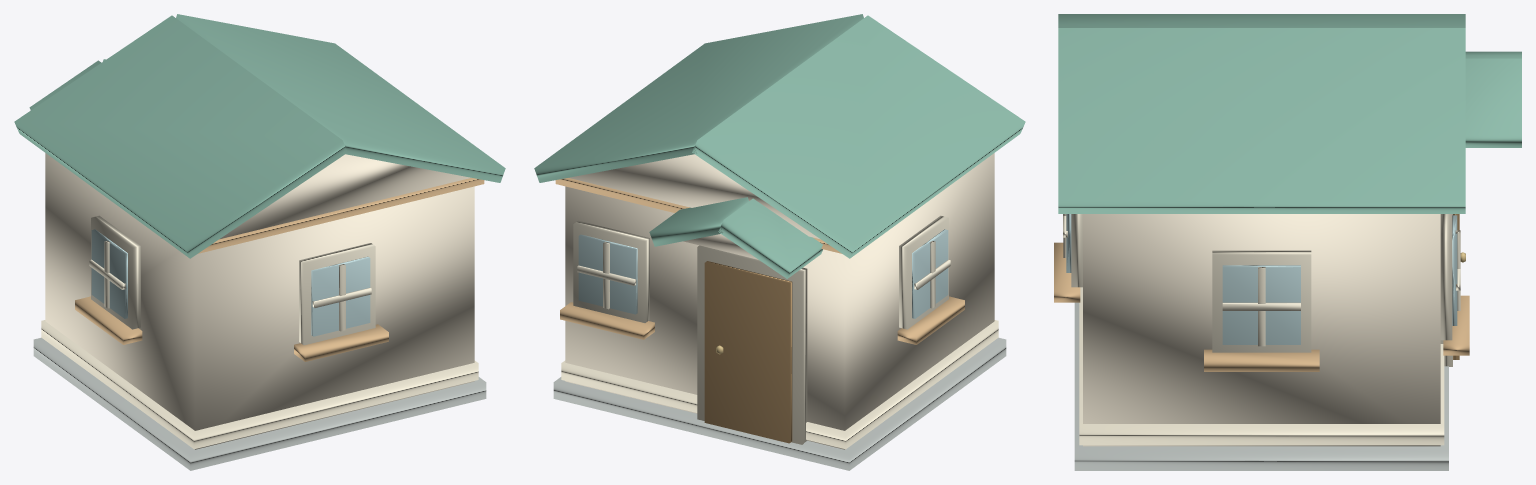
The model's file is cottage_0_low.glb.
3 renders of one model, left to right at view 1: azimuth 30°, elevation 25°; view 2: azimuth 150°, elevation 25°; view 3: azimuth 270°, elevation 25°, orthographic. The views are drawn at different scales.
Bounding box in the file's own units: 3.22 × 2.87 × 3.4.
